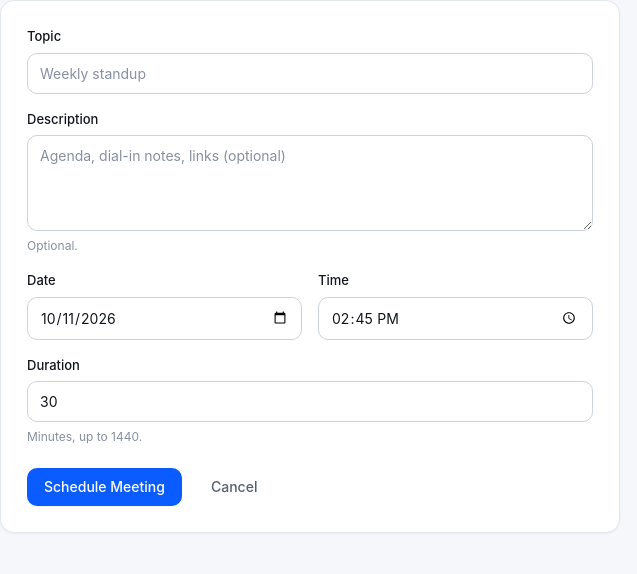
Test: ScheduleForm › blocks submission when the topic is empty
Click the button "Schedule Meeting" at (104, 487), box [27, 468, 182, 506]
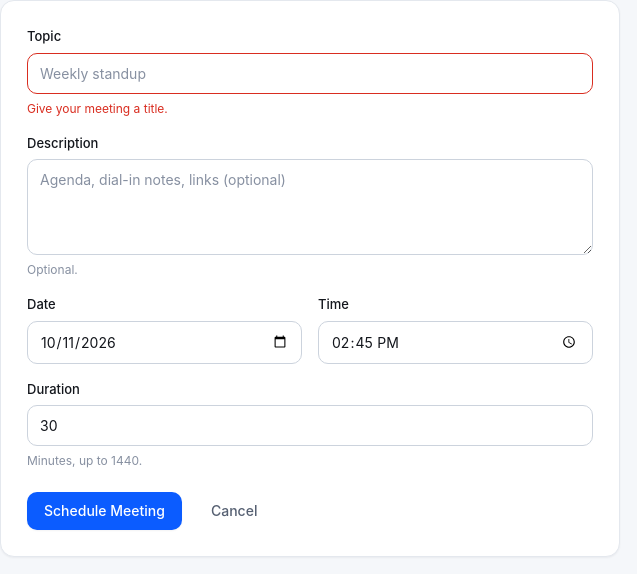
Result: the text "Give your meeting a title." is shown at [27, 100, 168, 116]
